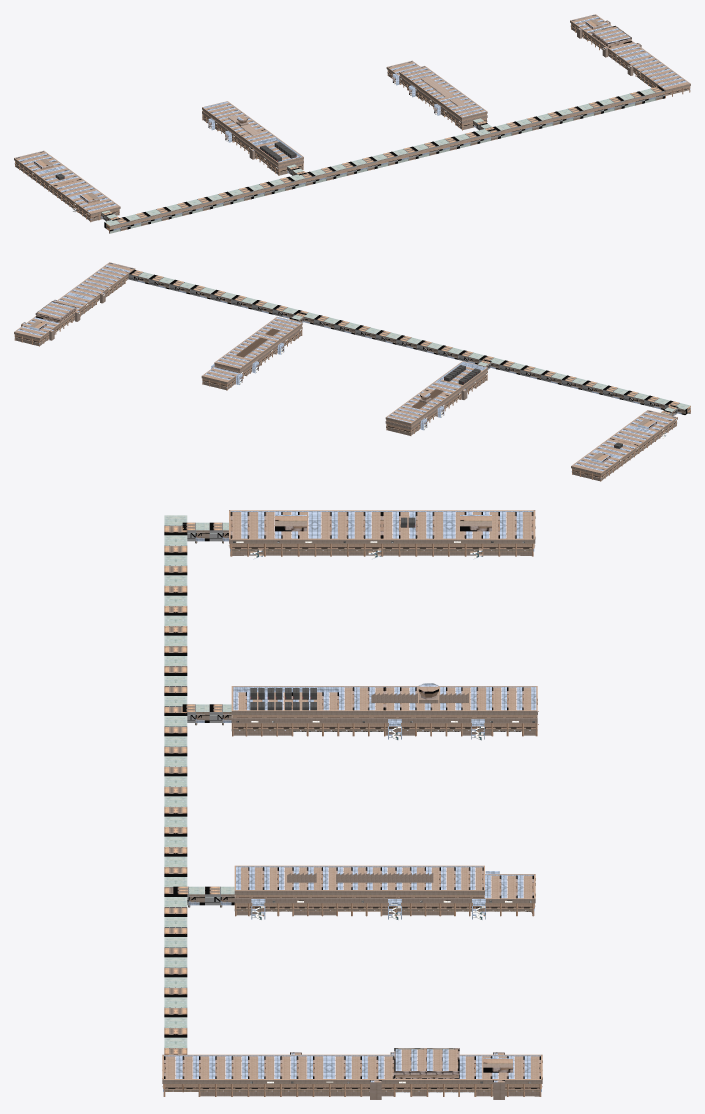
Rendered from Terminal4b.exact.glb.
3 views of the same model, one above another, from view 1: azimuth 30°, elevation 25°; view 2: azimuth 150°, elevation 25°; view 3: azimuth 270°, elevation 25° (orthographic). The views are drawn at different scales.
Parts seen in each view (by area): view 1: Terminal4b; view 2: Terminal4b; view 3: Terminal4b.
Boxes of the visible parts, box(x1,y1,x2,y2) form: Terminal4b: box(14, 14, 690, 233); Terminal4b: box(14, 262, 690, 481); Terminal4b: box(162, 510, 542, 1099).
Bounding box in the file's own units: 738 × 23.26 × 207.
1 material, 1 textured.
